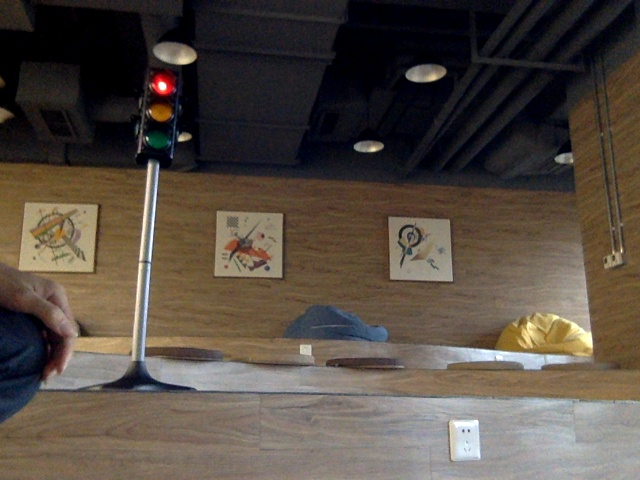red: (141, 71, 174, 153)
